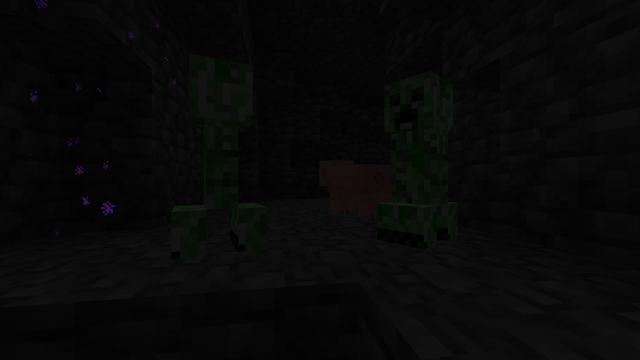cochons: (328, 162, 371, 217)
creepers: (171, 43, 254, 258), (380, 63, 463, 247)
